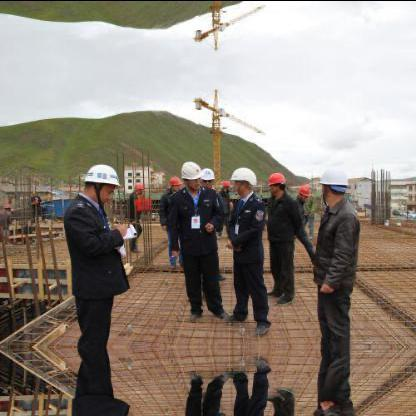Helmet: (79, 162, 121, 206), (315, 164, 349, 204), (228, 164, 258, 192), (180, 158, 202, 186), (266, 170, 284, 196), (199, 164, 213, 188), (168, 174, 182, 190), (296, 182, 308, 200), (130, 180, 144, 192), (220, 177, 230, 191)
